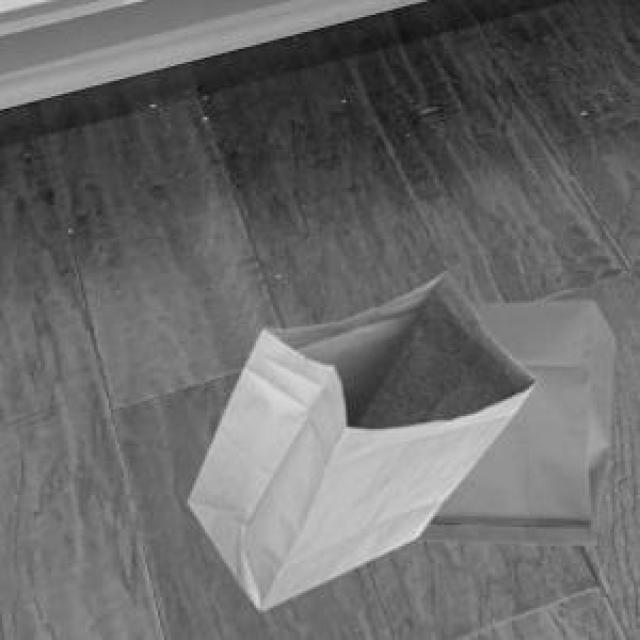paper: (186, 269, 533, 606), (410, 297, 610, 540)
